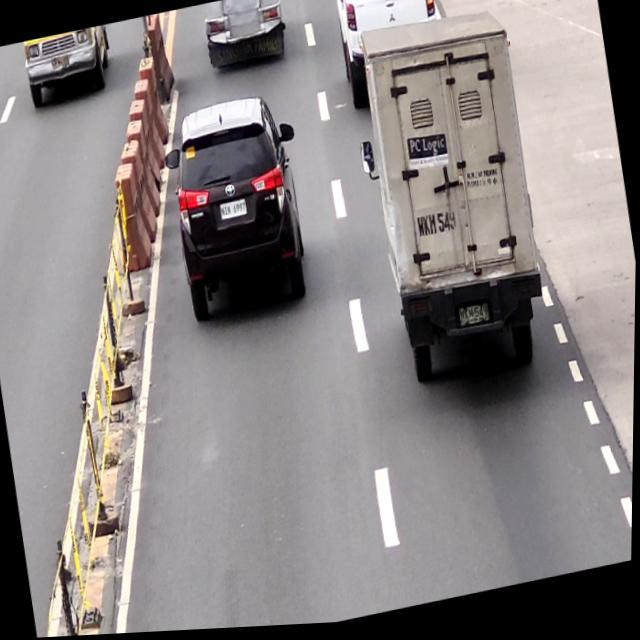Car: (156, 89, 321, 329), (325, 0, 450, 112)
License-Plate: (457, 306, 493, 333), (219, 200, 249, 222)
Truck: (341, 3, 560, 402)
